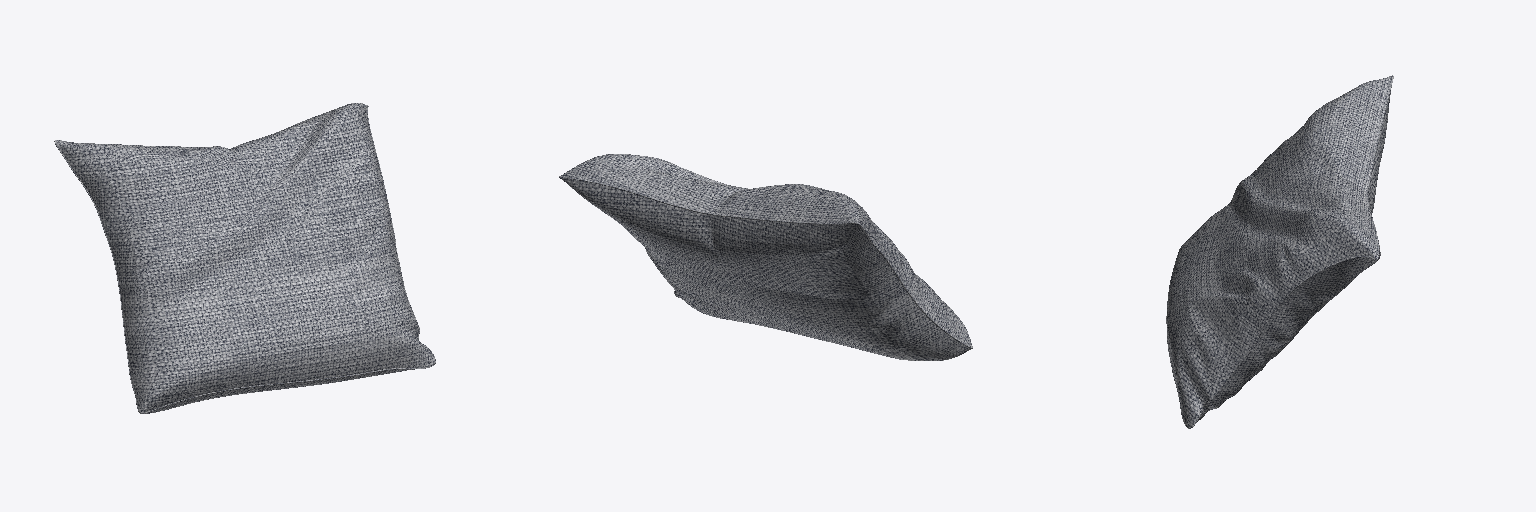
3 views of the same model, side by side, from view 1: azimuth 30°, elevation 25°; view 2: azimuth 150°, elevation 25°; view 3: azimuth 270°, elevation 25° (orthographic).
Visible parts, largest first — view 1: Obj3d66_494305_8_150; view 2: Obj3d66_494305_8_150; view 3: Obj3d66_494305_8_150.
Part boxes in pixels (x1,y1,x2,y2): Obj3d66_494305_8_150: (54, 103, 435, 413); Obj3d66_494305_8_150: (559, 154, 972, 360); Obj3d66_494305_8_150: (1166, 75, 1393, 428).
Bounding box in the file's own units: 14.41 × 9.47 × 8.81.
Materials: 1 (1 with a texture image).